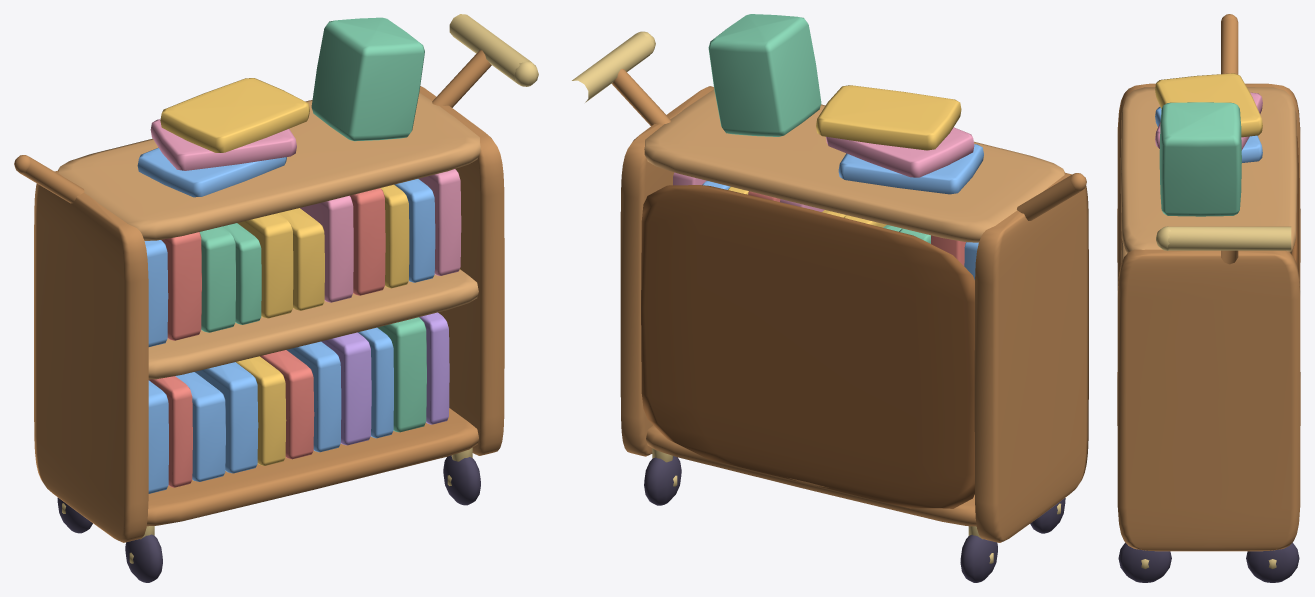
File: book_cart.glb
The picture shows the model from 3 angles, left to right: view 1: azimuth 30°, elevation 25°; view 2: azimuth 150°, elevation 25°; view 3: azimuth 270°, elevation 25°; orthographic projection. The views are drawn at different scales.
Visible parts, largest first — view 1: book_cart; view 2: book_cart; view 3: book_cart.
Boxes of the visible parts, x1=… form: book_cart: x1=14, y1=14, x2=538, y2=582; book_cart: x1=572, y1=14, x2=1088, y2=582; book_cart: x1=1117, y1=14, x2=1300, y2=582.
Bounding box in the file's own units: 1.29 × 1.18 × 0.4451.
1 material, 1 textured.
